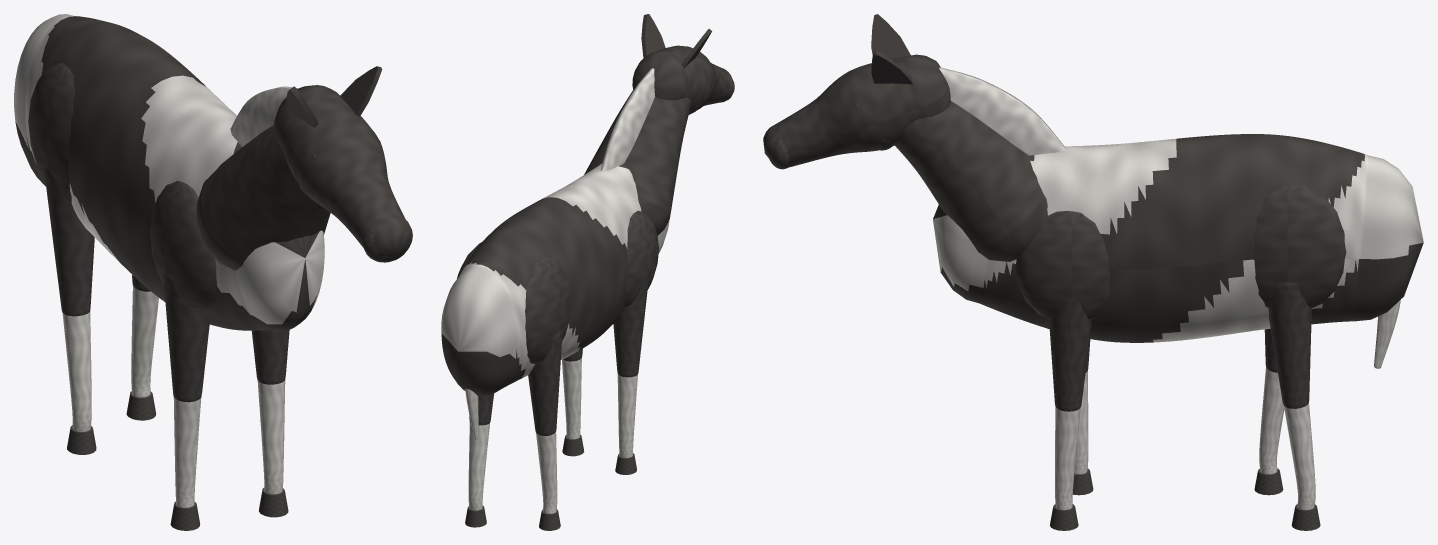
Rendered from farm-and-working-animals-hd-pony-piebald-54abe706__29183.glb.
3 views of the same model, side by side, from view 1: azimuth 30°, elevation 25°; view 2: azimuth 150°, elevation 25°; view 3: azimuth 270°, elevation 25° (orthographic). The views are drawn at different scales.
Parts seen in each view (by area): view 1: pony-piebald; view 2: pony-piebald; view 3: pony-piebald.
Boxes of the visible parts, x1,y1,x2,y2 form: pony-piebald: (14,14,412,530); pony-piebald: (441,14,734,530); pony-piebald: (763,14,1423,530).
Bounding box in the file's own units: 0.4536 × 1.72 × 2.17.
Materials: 2 (2 with a texture image).
